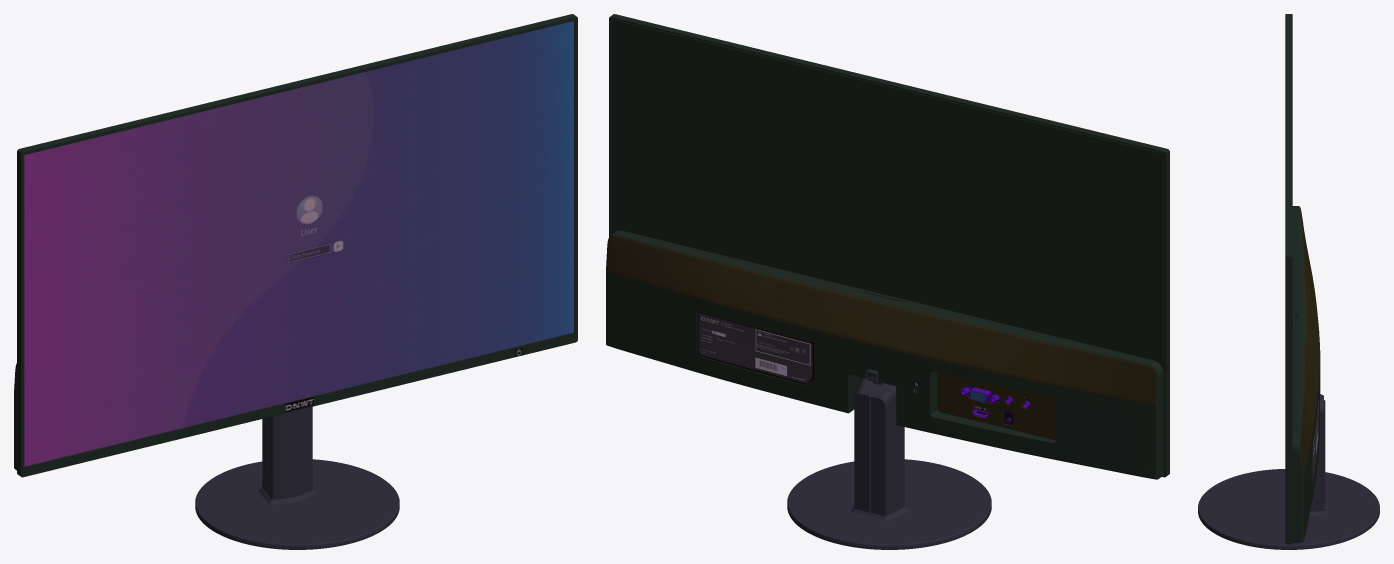
Rendered from SR-computer_monitor_office_a01.glb.
3 views of the same model, side by side, from view 1: azimuth 30°, elevation 25°; view 2: azimuth 150°, elevation 25°; view 3: azimuth 270°, elevation 25° (orthographic). The views are drawn at different scales.
Visible parts, largest first — view 1: sm_computer_monitor_office_a01_mesh_00; view 2: sm_computer_monitor_office_a01_mesh_00; view 3: sm_computer_monitor_office_a01_mesh_00.
Boxes of the visible parts, x1,y1,x2,y2 form: sm_computer_monitor_office_a01_mesh_00: [14, 14, 577, 549]; sm_computer_monitor_office_a01_mesh_00: [606, 14, 1169, 549]; sm_computer_monitor_office_a01_mesh_00: [1198, 14, 1379, 549].
Bounding box in the file's own units: 0.542 × 0.3942 × 0.1722.
Materials: 6 (5 with a texture image).
